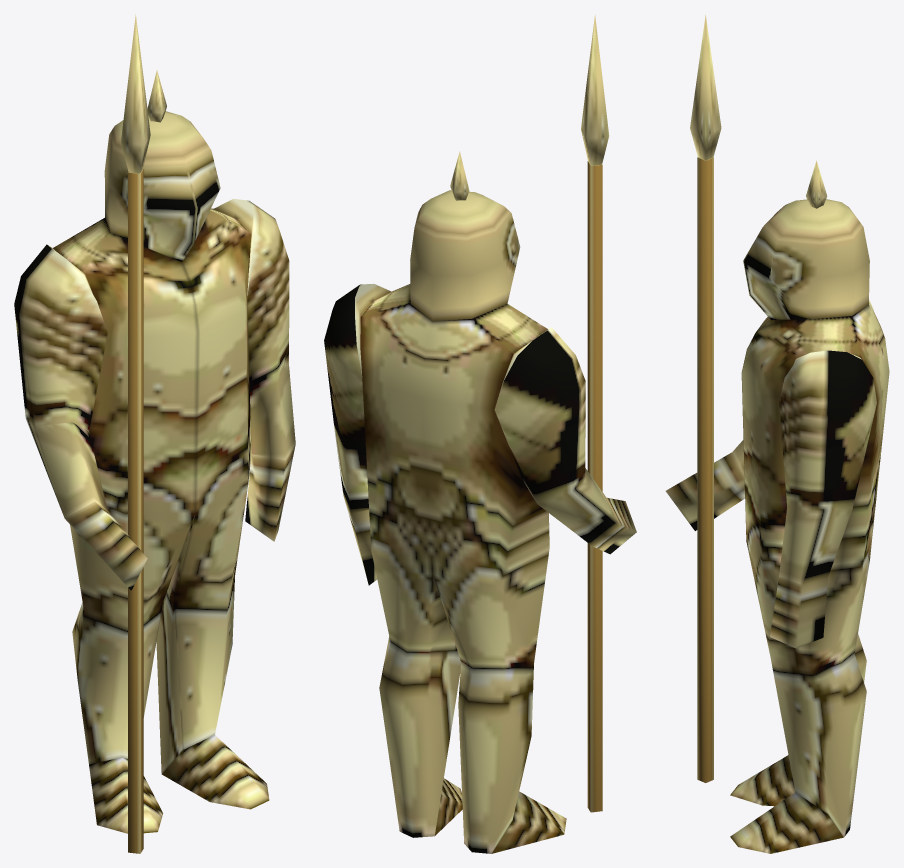
File: rmk_jhn_armor_mtl.dae
3 views of the same model, side by side, from view 1: azimuth 30°, elevation 25°; view 2: azimuth 150°, elevation 25°; view 3: azimuth 270°, elevation 25° (orthographic). The views are drawn at different scales.
Visible parts, largest first — view 1: rmk_jhn_armor_mtl; view 2: rmk_jhn_armor_mtl; view 3: rmk_jhn_armor_mtl.
Boxes of the visible parts, x1,y1,x2,y2 form: rmk_jhn_armor_mtl: (14, 14, 295, 853); rmk_jhn_armor_mtl: (324, 15, 636, 853); rmk_jhn_armor_mtl: (665, 15, 889, 853).
Bounding box in the file's own units: 23.67 × 71.51 × 18.97.
1 material, 1 textured.
